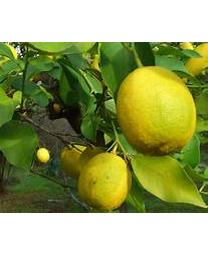lemon: (117, 66, 196, 158), (77, 154, 131, 212)
